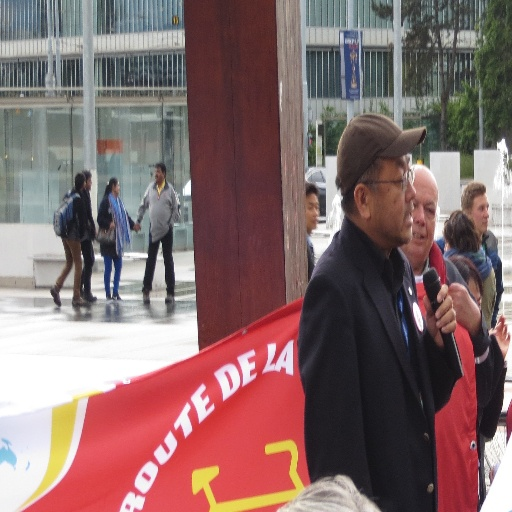hand: (445, 281, 478, 333), (492, 309, 511, 361), (133, 222, 142, 232), (109, 221, 115, 229)
